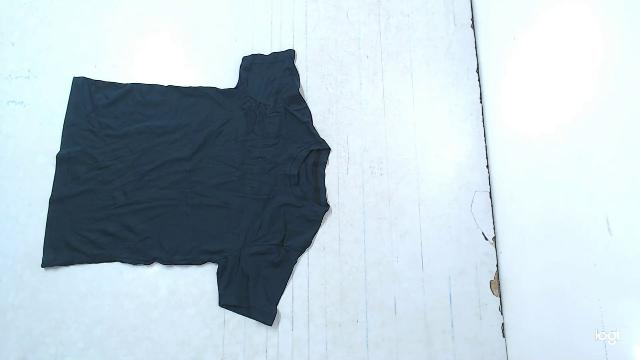new-garment: (41, 49, 330, 325)
